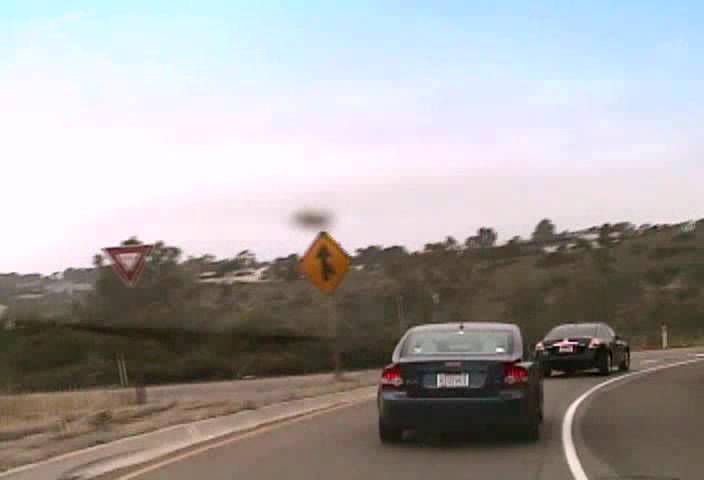yield: (100, 243, 153, 287)
